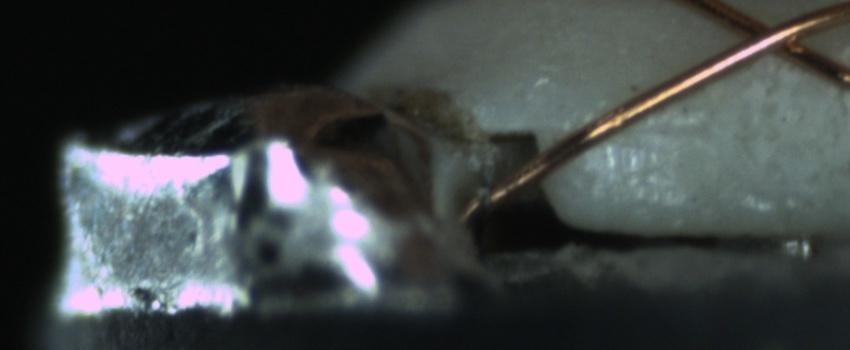CL: (717, 3, 827, 68)
DL: (598, 101, 723, 158)
